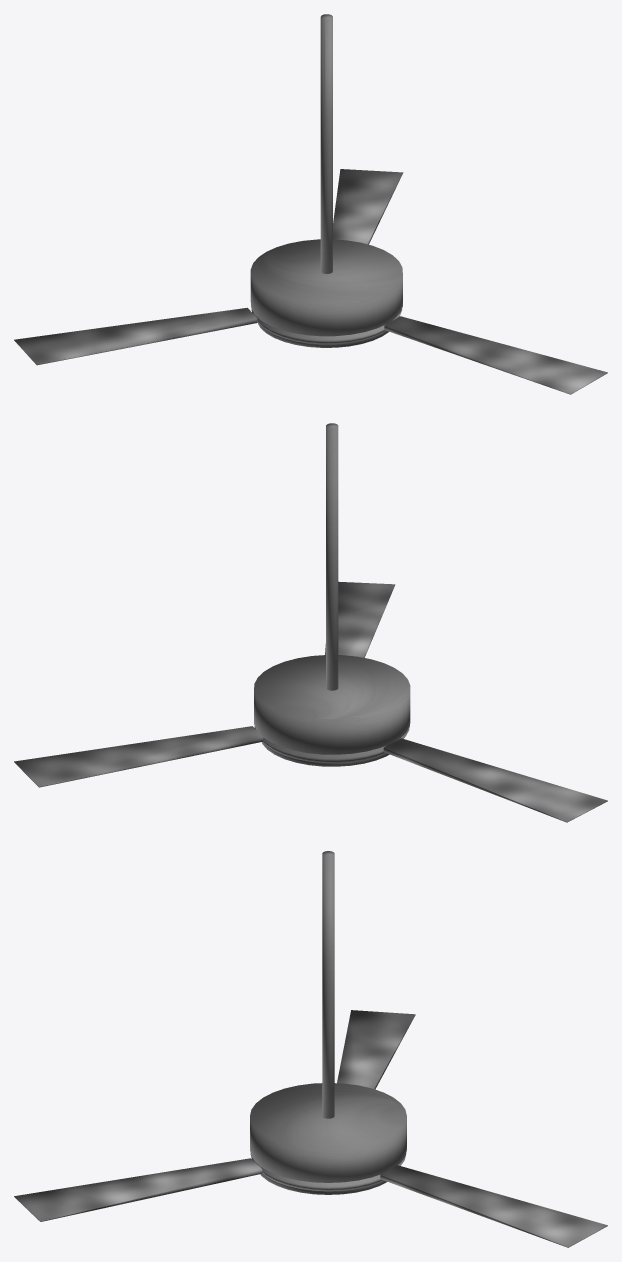
Rendered from VentiladorLampara.obj.
3 views of the same model, one above another, from view 1: azimuth 30°, elevation 25°; view 2: azimuth 150°, elevation 25°; view 3: azimuth 270°, elevation 25° (orthographic). The views are drawn at different scales.
Visible parts, largest first — view 1: CeilingFanLamp:Mesh; view 2: CeilingFanLamp:Mesh; view 3: CeilingFanLamp:Mesh.
Boxes of the visible parts, x1,y1,x2,y2 form: CeilingFanLamp:Mesh: (14,14,607,394); CeilingFanLamp:Mesh: (14,423,607,822); CeilingFanLamp:Mesh: (14,851,607,1247).
Bounding box in the file's own units: 3.22 × 1.96 × 3.4.
Materials: 1 (1 with a texture image).
